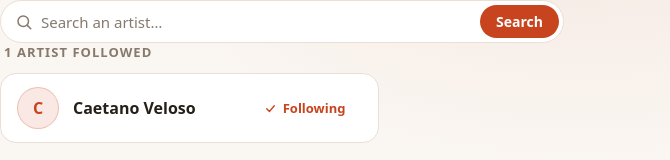
it: unfollows an artist from the results
Type "caetano" into the field with placeholder "Search an artist…". click: (257, 22)
box: [41,6,472,38]
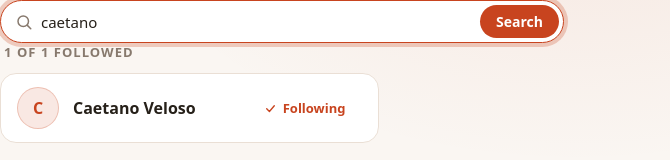
Click the button "Search". click: (520, 22)
box: [480,5,559,38]
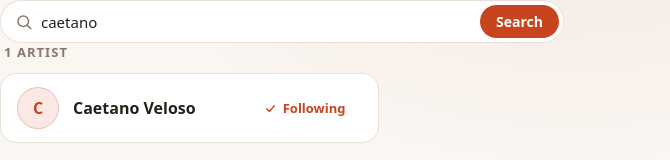
Expected: the text "Caetano Veloso" is shown, [73,97,196,119]
Click the text "Following". click: (305, 108)
box: [264,99,346,117]
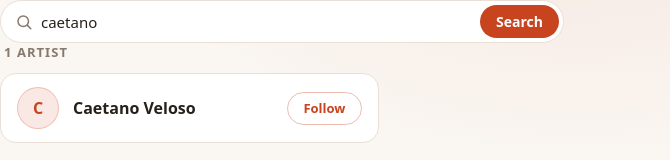
Expected: the button "Follow" is shown, [287,92,362,125]
Expected: the button "Following" is gone
